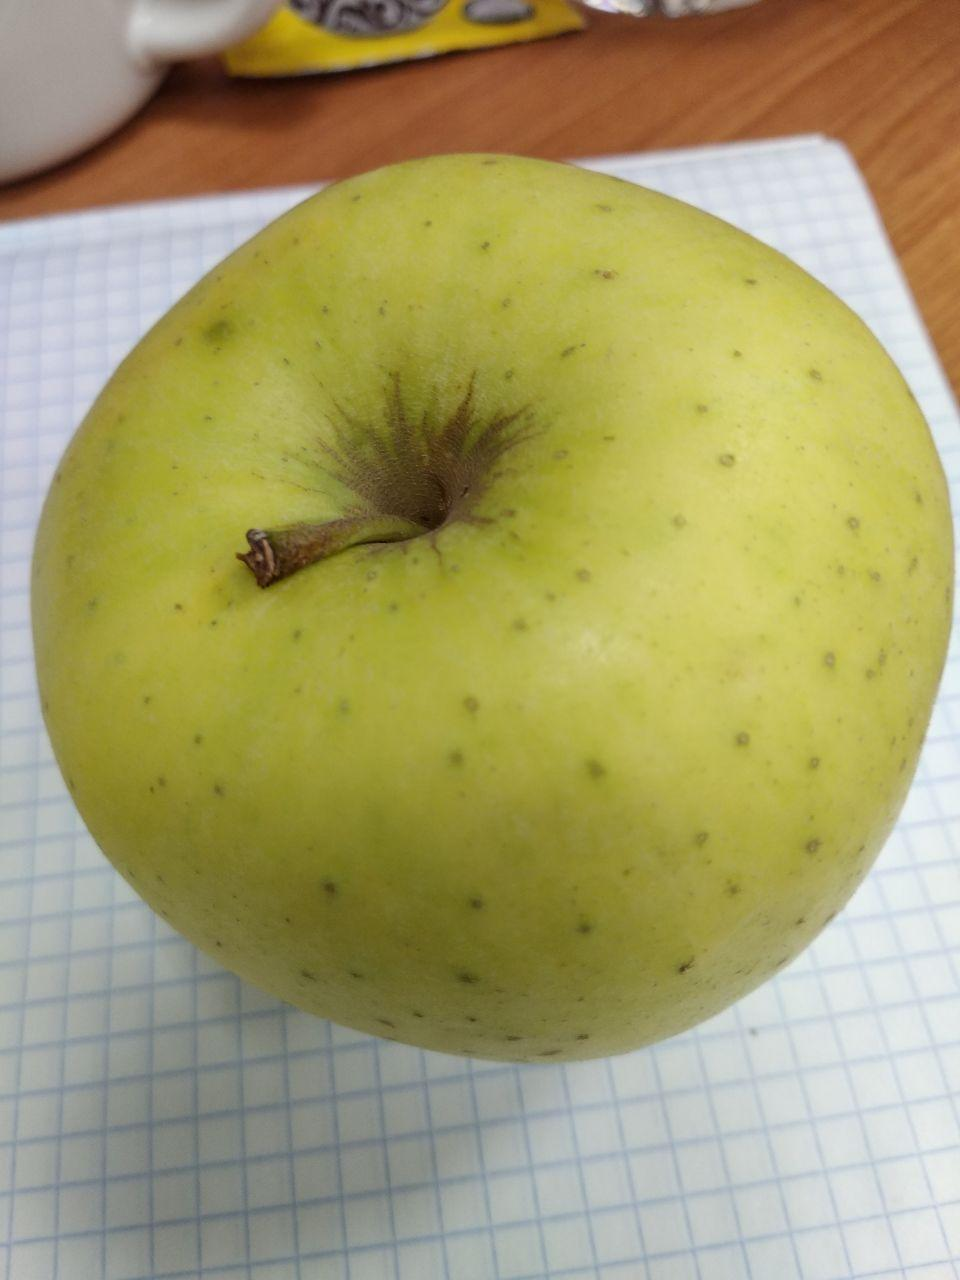Apple: (26, 150, 952, 1074)
